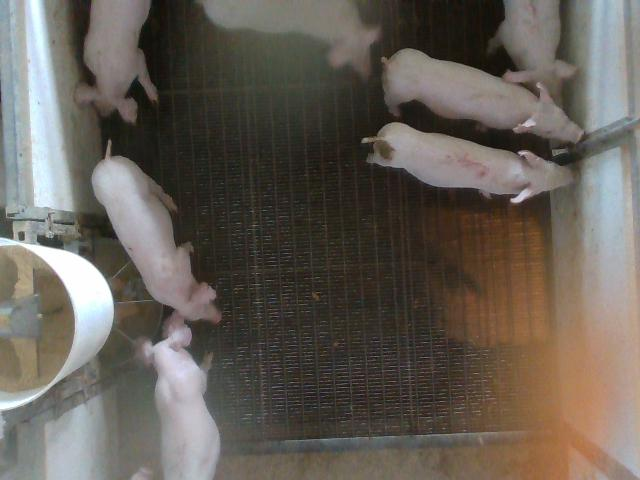pig-5: (362, 122, 572, 203)
